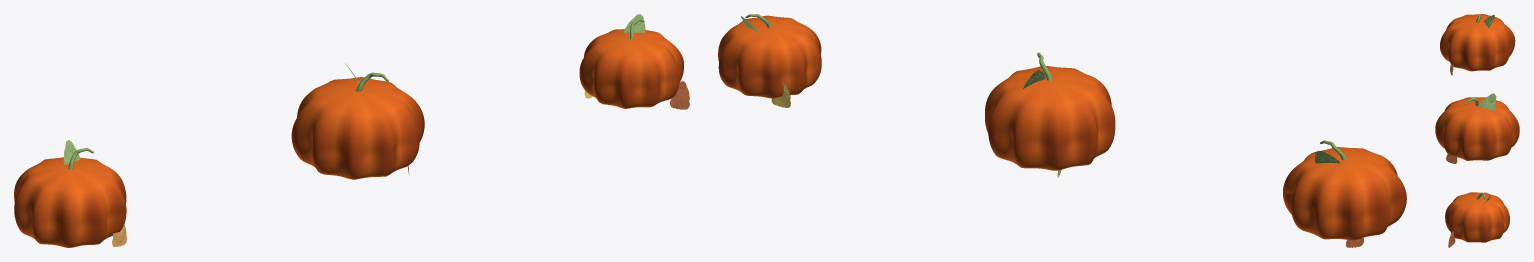
Rendered from hurdle-autumn.glb.
3 views of the same model, side by side, from view 1: azimuth 30°, elevation 25°; view 2: azimuth 150°, elevation 25°; view 3: azimuth 270°, elevation 25° (orthographic). The views are drawn at different scales.
Parts seen in each view (by area): view 1: PumpkinBBody, PumpkinABody, PumpkinCBody, PumpkinCFall0; view 2: PumpkinBBody, PumpkinABody, PumpkinCBody; view 3: PumpkinBBody, PumpkinABody, PumpkinCBody, PumpkinBLeaf, PumpkinALeaf, PumpkinBFall0, PumpkinCFall0.
Part boxes in pixels (x1,y1,x2,y2): PumpkinBBody: (291, 77, 424, 179); PumpkinABody: (14, 157, 126, 247); PumpkinCBody: (579, 29, 683, 108); PumpkinCFall0: (670, 81, 689, 109); PumpkinBBody: (985, 66, 1115, 170); PumpkinABody: (1283, 147, 1406, 240); PumpkinCBody: (718, 15, 821, 98); PumpkinBBody: (1435, 97, 1519, 160); PumpkinABody: (1440, 14, 1515, 71); PumpkinCBody: (1445, 192, 1509, 242); PumpkinBLeaf: (1478, 93, 1496, 110); PumpkinALeaf: (1484, 14, 1494, 28); PumpkinBFall0: (1446, 154, 1457, 163); PumpkinCFall0: (1448, 231, 1455, 247).
Size of the model in its own units: 4.55 by 0.6354 by 0.8058.
7 materials, 7 textured.
